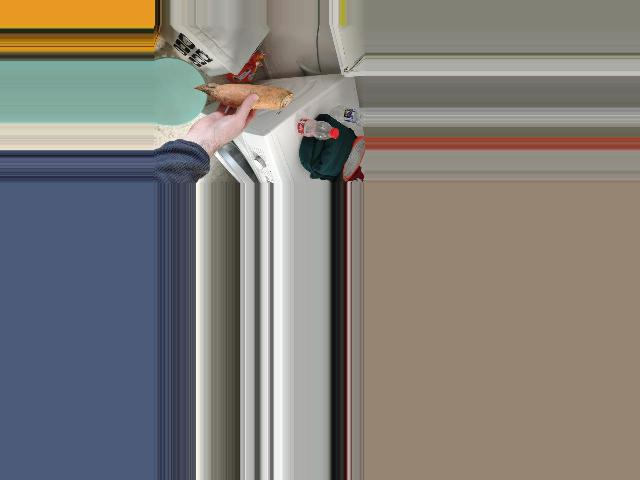sweet_potato: (196, 84, 283, 115)
